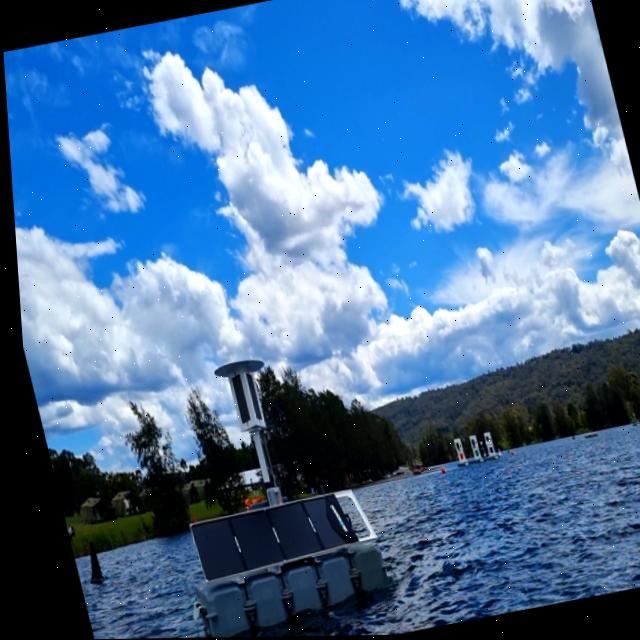led: (222, 373, 247, 427), (237, 369, 258, 425)
